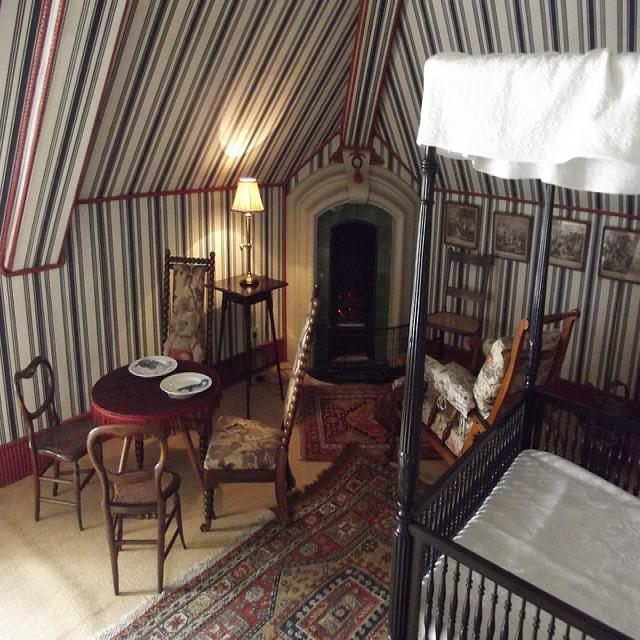chair: (199, 286, 316, 532), (421, 307, 581, 468), (83, 420, 195, 594), (16, 354, 93, 527), (427, 247, 494, 355), (160, 245, 217, 364), (538, 308, 581, 388)
dining table: (88, 355, 223, 495)
